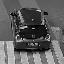mobil: (8, 7, 53, 52)
